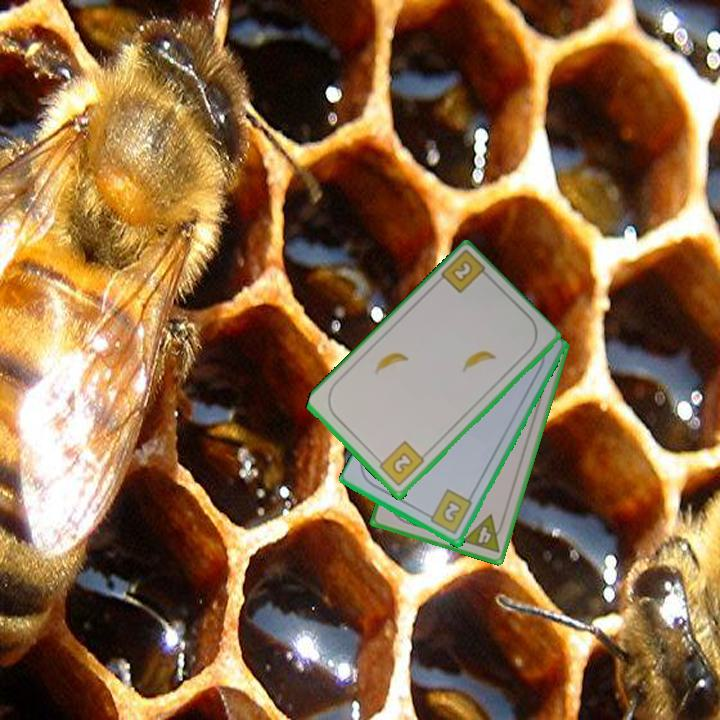2b: (372, 438, 427, 489), (422, 486, 475, 537), (448, 257, 476, 285)
4p: (458, 511, 508, 556)
